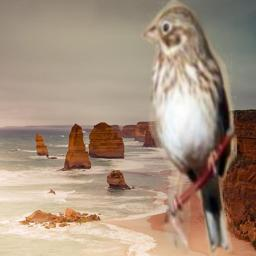Sparrow: (141, 0, 237, 256)
